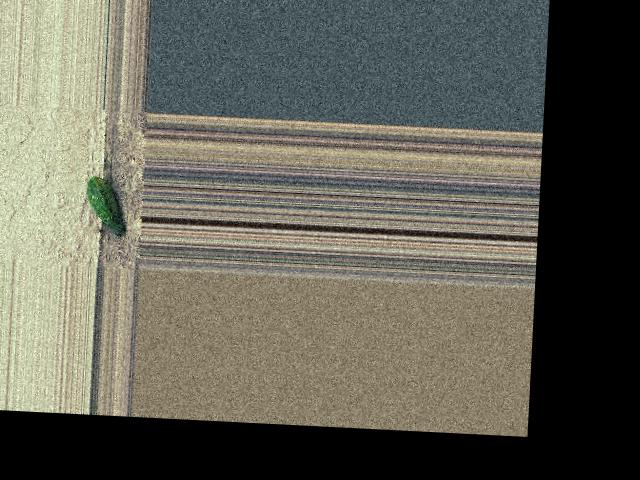cucumber: (84, 175, 127, 235)
